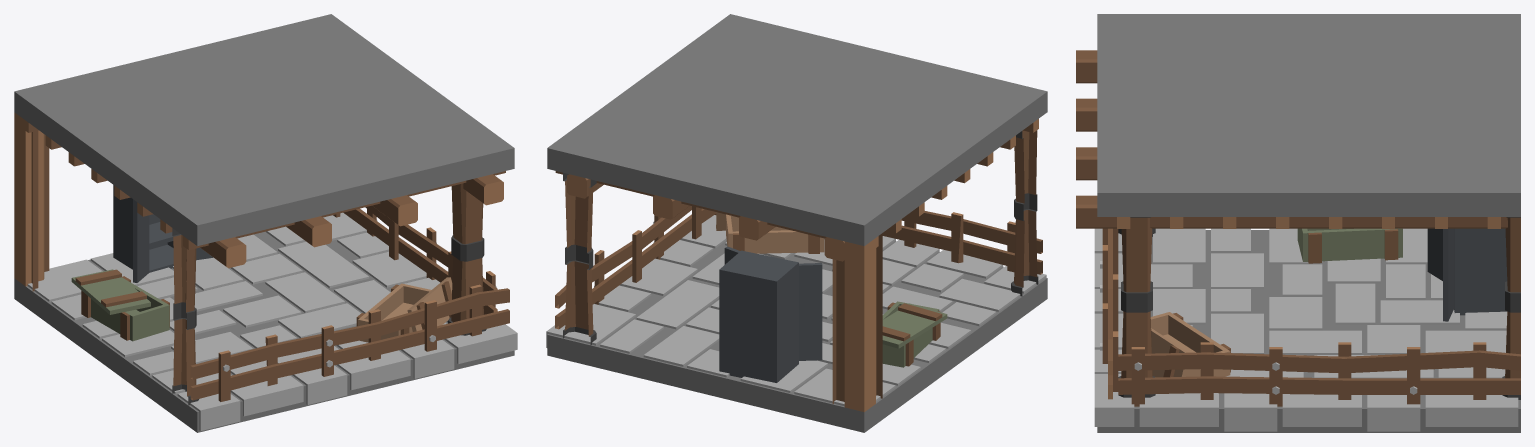
The model's file is WeaponStorage_Lvl_02_Corner_Left_Right.fbx.
3 views of the same model, side by side, from view 1: azimuth 30°, elevation 25°; view 2: azimuth 150°, elevation 25°; view 3: azimuth 270°, elevation 25° (orthographic). The views are drawn at different scales.
Parts seen in each view (by area): view 1: WeaponStorage_Lvl_02_Corner_Left_Right; view 2: WeaponStorage_Lvl_02_Corner_Left_Right; view 3: WeaponStorage_Lvl_02_Corner_Left_Right.
Boxes of the visible parts, box(x1,y1,x2,y2) form: WeaponStorage_Lvl_02_Corner_Left_Right: box(14, 14, 517, 432); WeaponStorage_Lvl_02_Corner_Left_Right: box(546, 14, 1047, 432); WeaponStorage_Lvl_02_Corner_Left_Right: box(1076, 14, 1520, 432).
Bounding box in the file's own units: 8.05 × 5 × 8.4.
